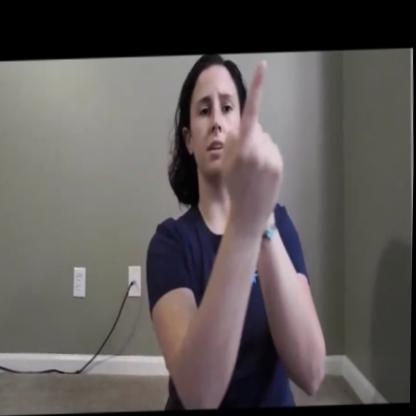NiceToMeetYou: (167, 61, 311, 256)
